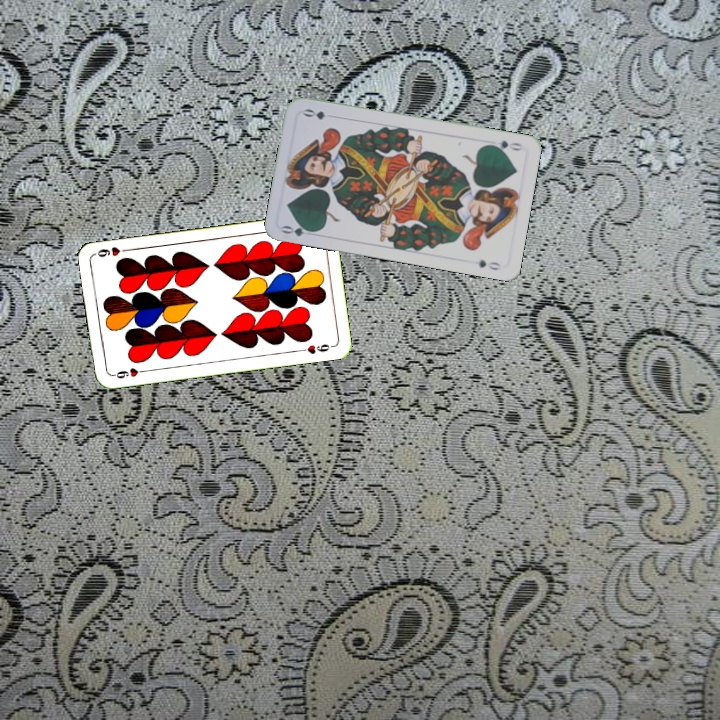GO: (278, 220, 319, 239), (485, 136, 525, 154)
H9: (108, 364, 149, 381)
